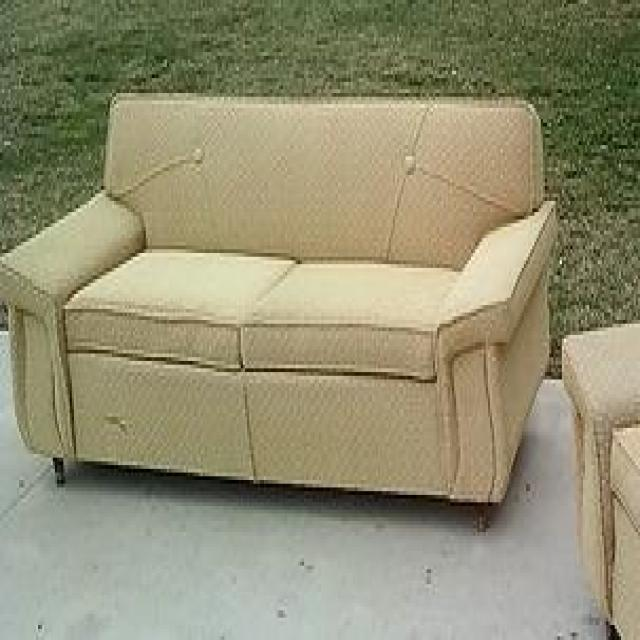sofa: (1, 86, 559, 533)
